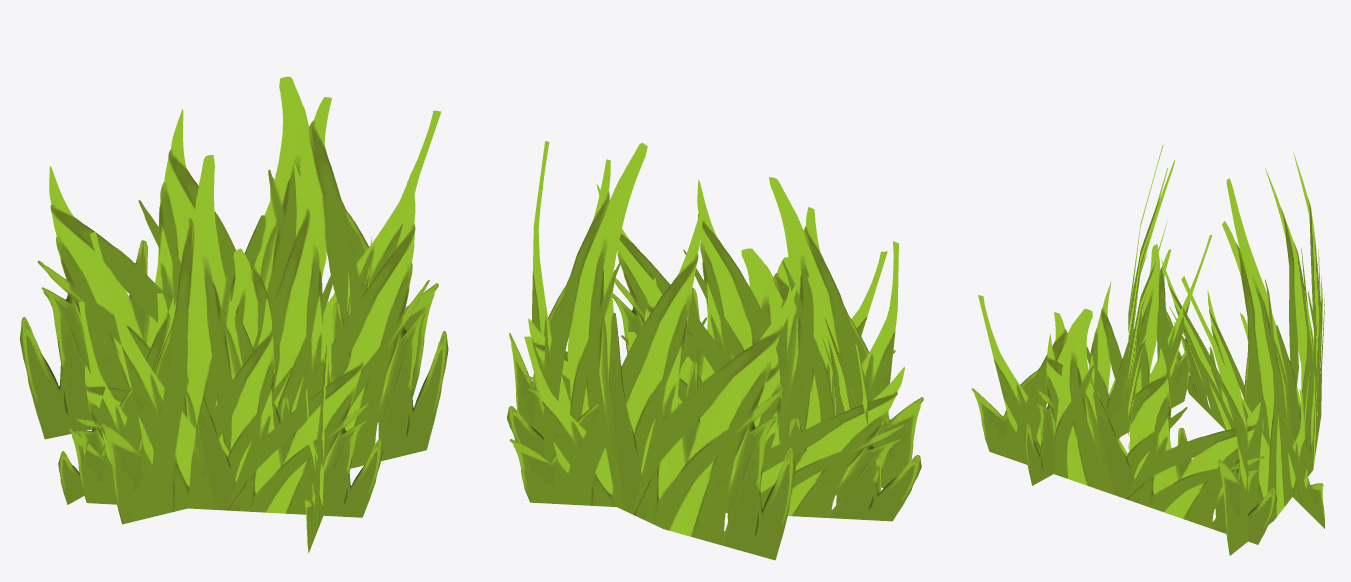
The model's file is Grass_4.fbx.
The picture shows the model from 3 angles, left to right: view 1: azimuth 30°, elevation 25°; view 2: azimuth 150°, elevation 25°; view 3: azimuth 270°, elevation 25°; orthographic projection. The views are drawn at different scales.
Parts seen in each view (by area): view 1: Grass_Bunch_1; view 2: Grass_Bunch_1; view 3: Grass_Bunch_1.
Boxes of the visible parts, bbox=[...] form: Grass_Bunch_1: bbox=[20, 76, 448, 552]; Grass_Bunch_1: bbox=[507, 141, 923, 560]; Grass_Bunch_1: bbox=[971, 145, 1325, 555].
Bounding box in the file's own units: 114 × 110 × 96.57.
